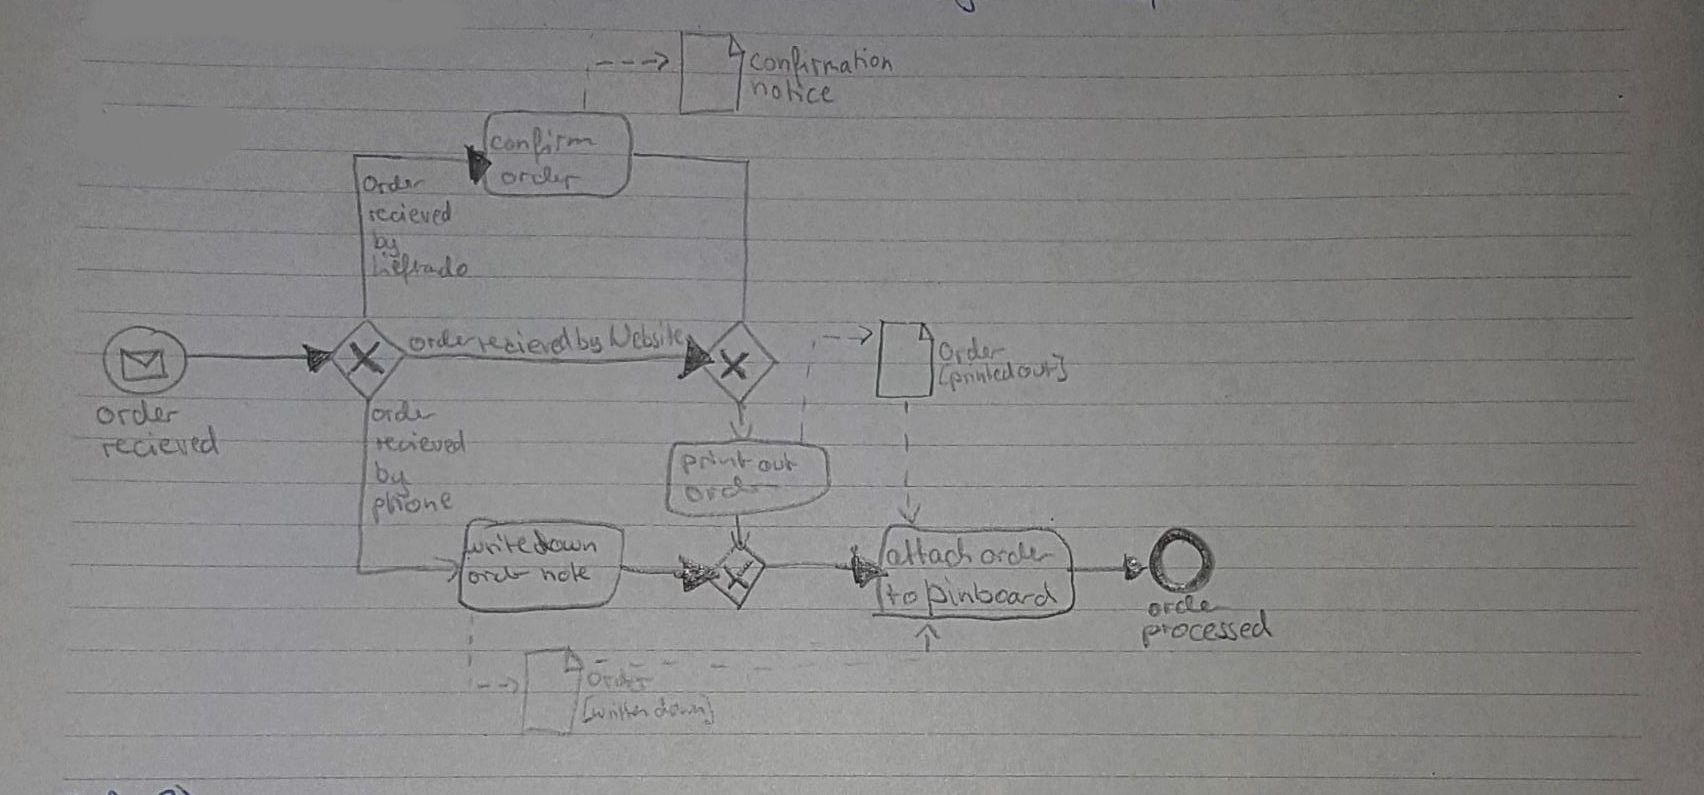Confirmation: (745, 45, 899, 81)
Lieferando: (365, 252, 476, 289)
Order: (932, 333, 1006, 366), (359, 172, 425, 195)
Website: (605, 317, 689, 356)
[printed: (934, 363, 1020, 389)
[written: (580, 697, 654, 722)
attach: (884, 534, 977, 572)
by: (369, 460, 413, 497), (369, 225, 408, 258), (572, 323, 606, 357)
confirm: (487, 124, 597, 163)
down: (529, 527, 601, 558)
down]: (653, 695, 719, 723)
note: (536, 561, 598, 585)
notice: (748, 74, 836, 108)
order: (404, 321, 483, 357), (90, 397, 181, 428), (977, 537, 1058, 569), (584, 665, 657, 696), (367, 395, 443, 426), (1141, 594, 1237, 618), (493, 166, 579, 191), (465, 564, 534, 589)
out]: (1013, 354, 1072, 390)
phone: (369, 485, 462, 527)
pinboard: (918, 577, 1057, 613)
printout: (679, 447, 798, 476)
processed: (1138, 611, 1275, 647)
recieved: (97, 422, 225, 462), (474, 324, 574, 359), (369, 428, 471, 456), (362, 202, 458, 226)
to: (881, 579, 922, 611)
write: (459, 532, 534, 560)
